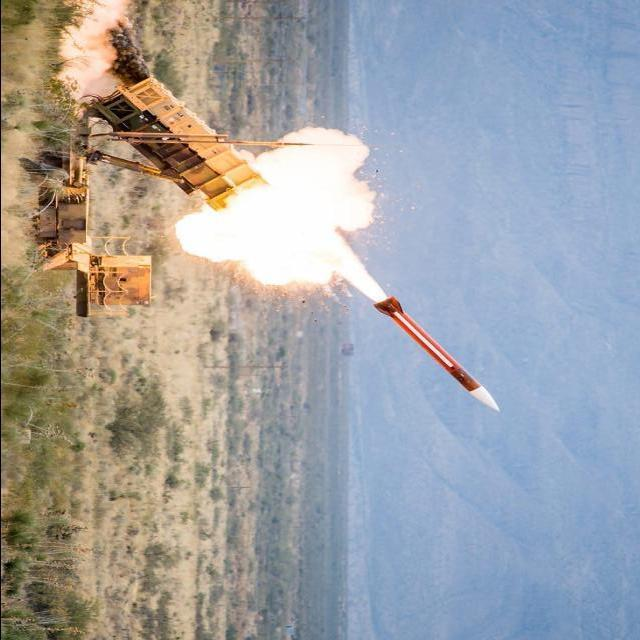missile: (365, 290, 499, 415)
